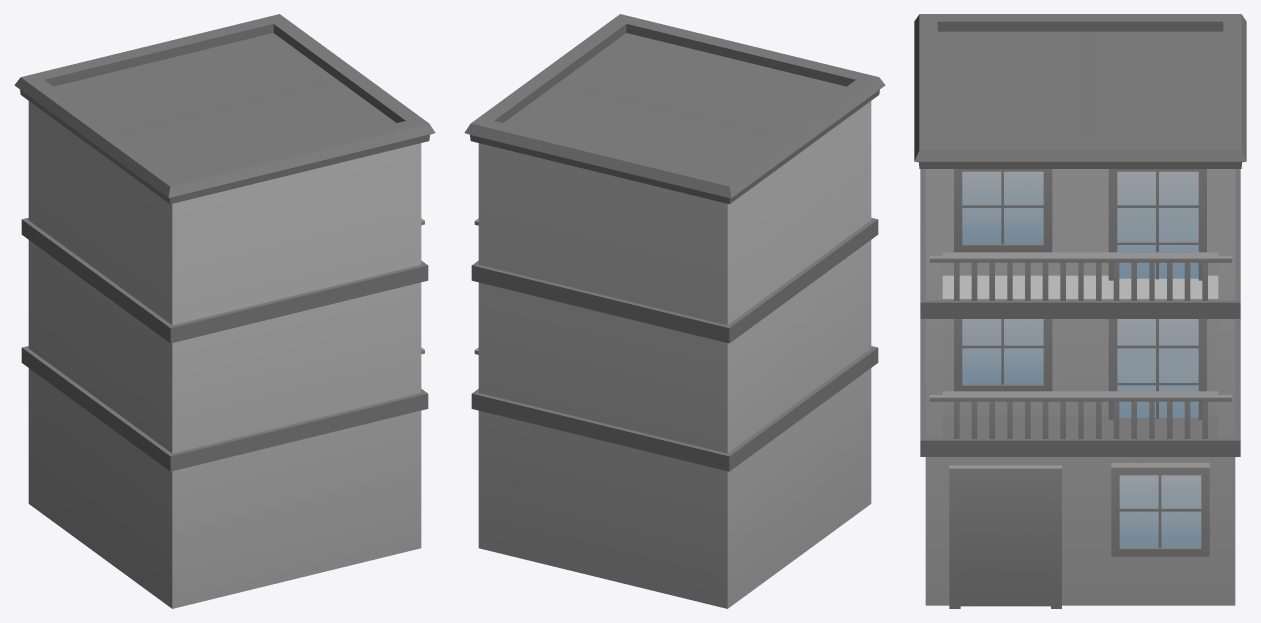
File: Gebeude_7.glb
3 renders of one model, left to right at view 1: azimuth 30°, elevation 25°; view 2: azimuth 150°, elevation 25°; view 3: azimuth 270°, elevation 25°, orthographic. The views are drawn at different scales.
Visible parts, largest first — view 1: Cube.017; view 2: Cube.017; view 3: Cube.017.
Part boxes in pixels (box(x1,y1,x2,y2)): Cube.017: box(14, 14, 435, 608); Cube.017: box(464, 14, 885, 608); Cube.017: box(914, 14, 1246, 608).
Bounding box in the file's own units: 6.12 × 9.32 × 6.12.
1 material, 1 textured.
